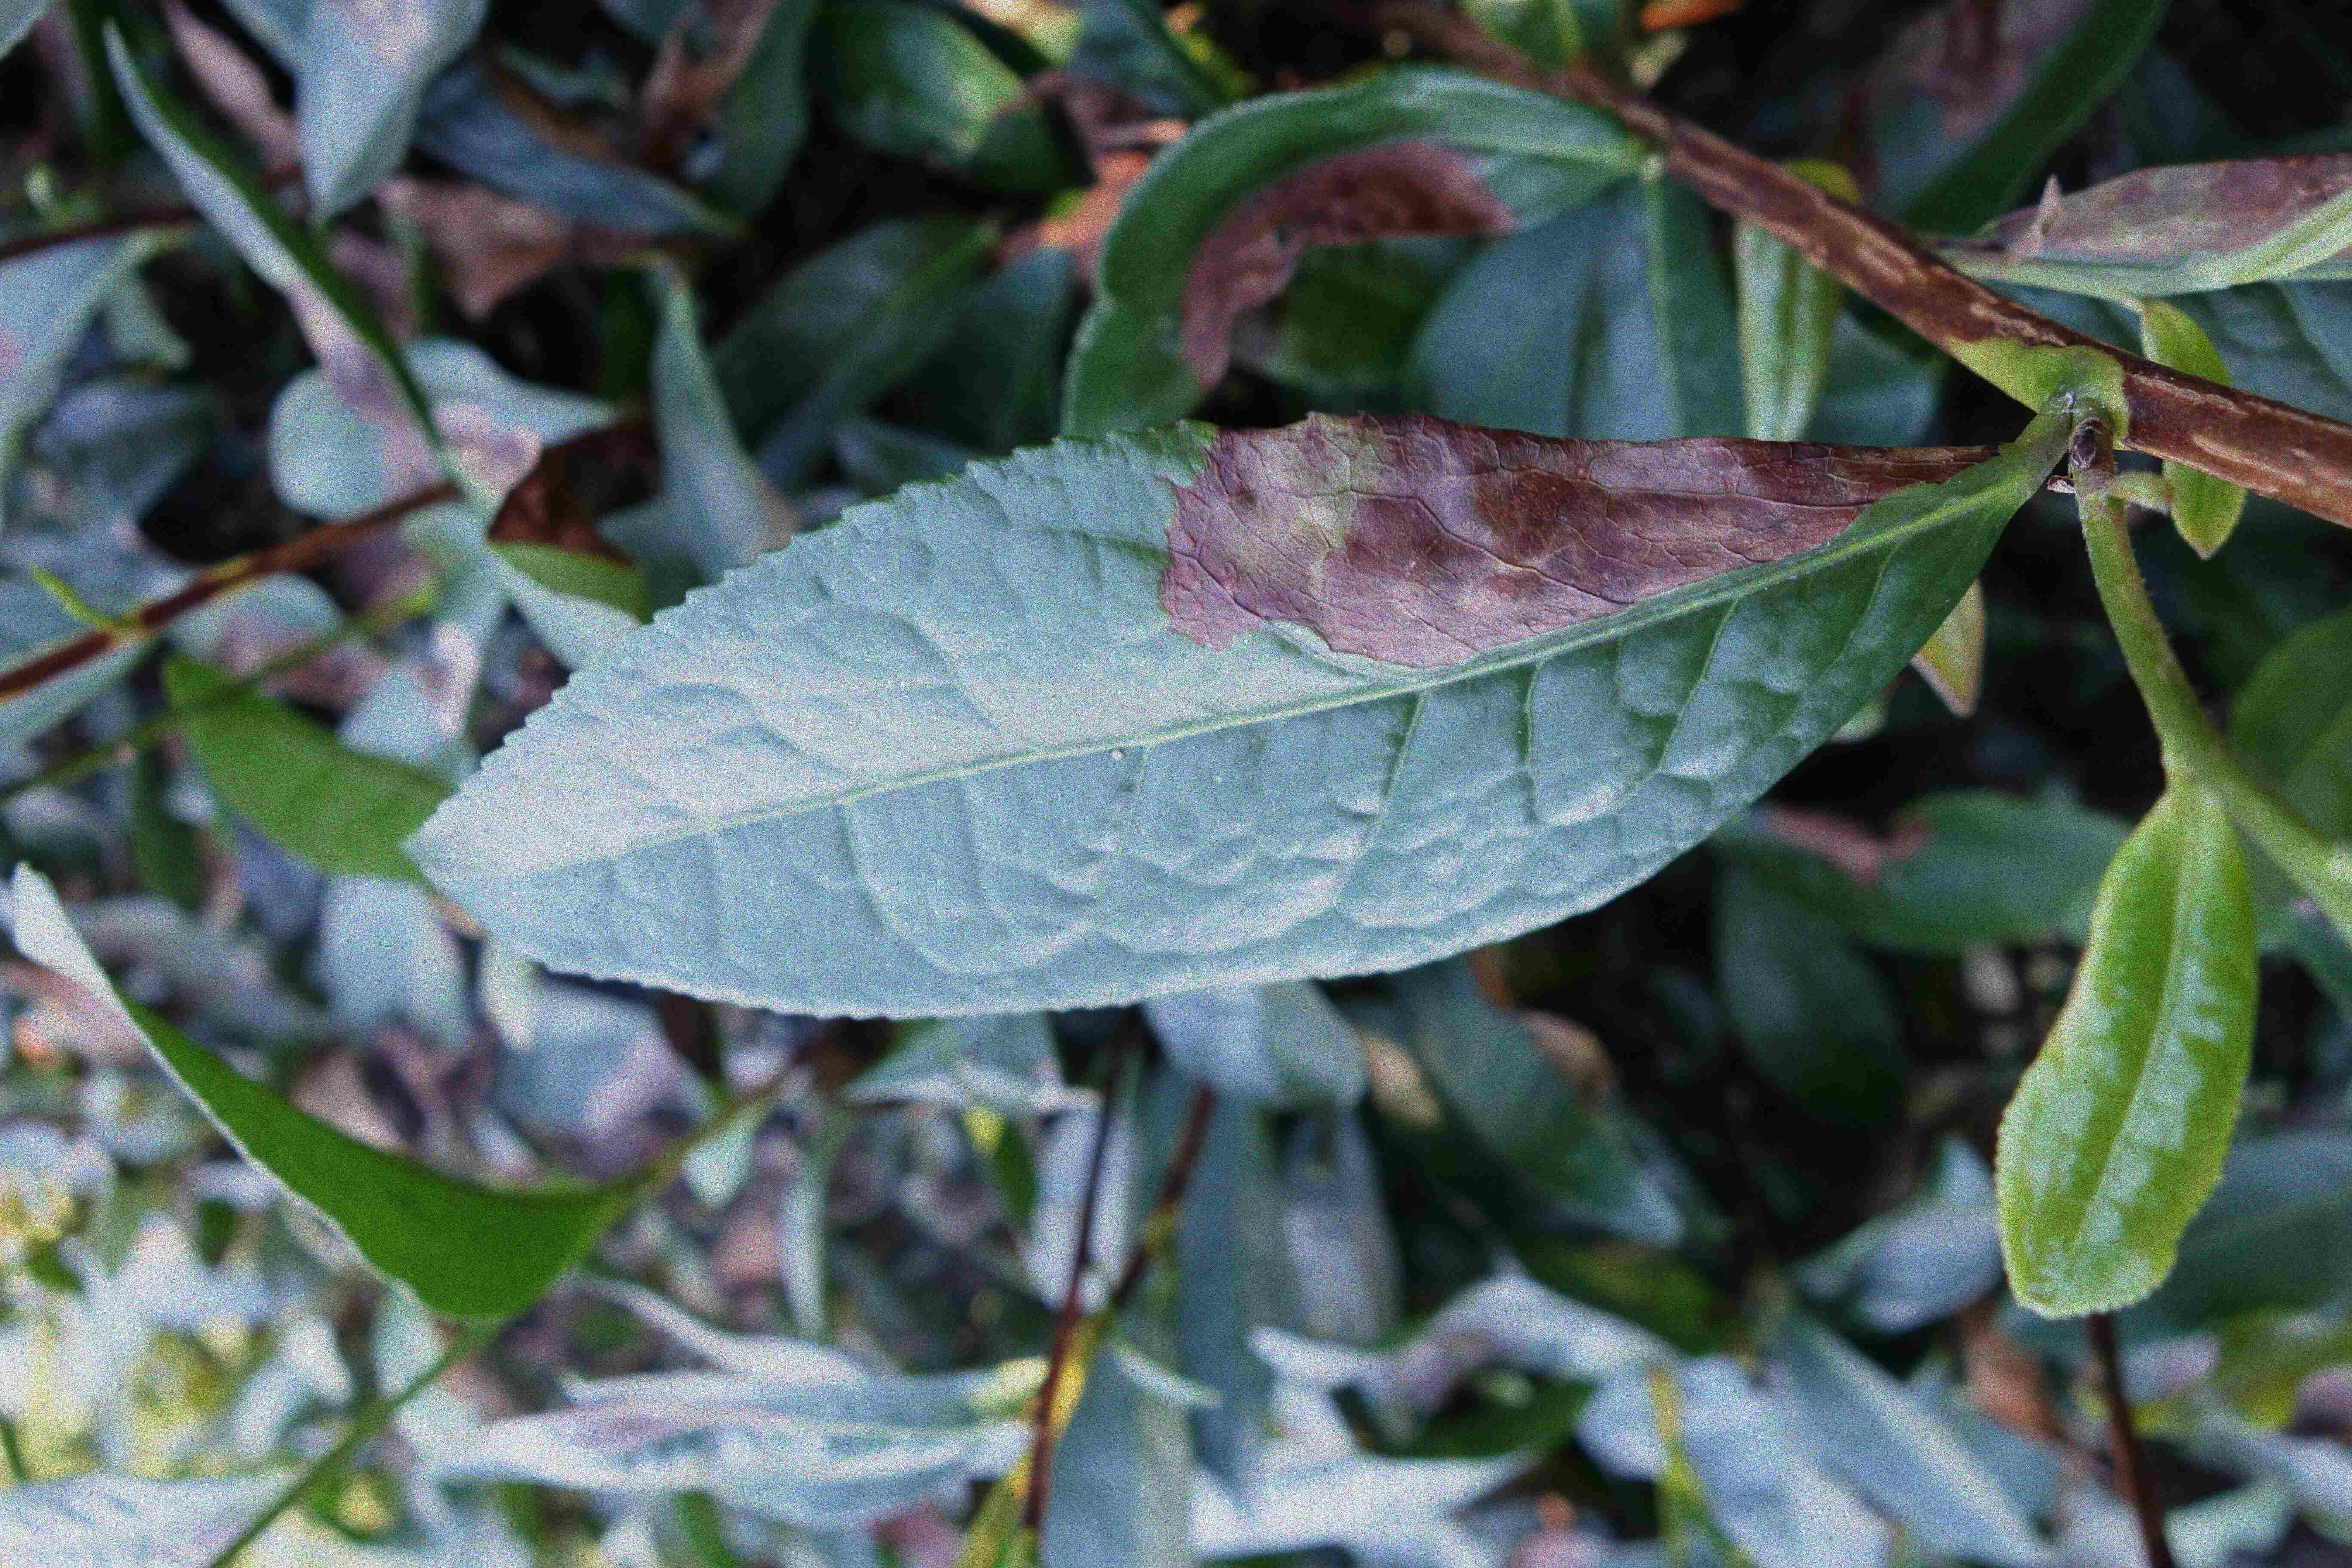healthy: (1995, 777, 2261, 1321)
tanju_high: (401, 402, 2037, 1022), (1057, 66, 1655, 437)
